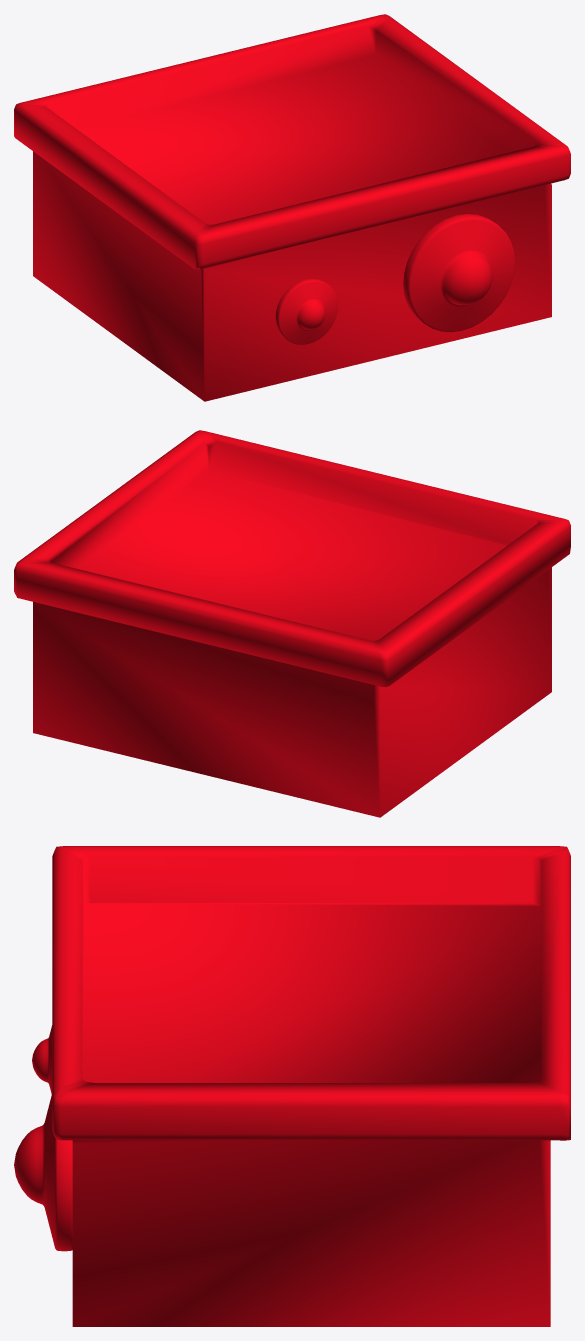
Rendered from SK_DROBOT_BAC.fbx.
3 views of the same model, one above another, from view 1: azimuth 30°, elevation 25°; view 2: azimuth 150°, elevation 25°; view 3: azimuth 270°, elevation 25° (orthographic). The views are drawn at different scales.
Parts seen in each view (by area): view 1: BAC; view 2: BAC; view 3: BAC.
Boxes of the visible parts, left/top/right/bottom form: BAC: left=14, top=14, right=570, bottom=401; BAC: left=14, top=430, right=570, bottom=817; BAC: left=14, top=846, right=570, bottom=1326.
Bounding box in the file's own units: 48.49 × 21.22 × 44.84.
